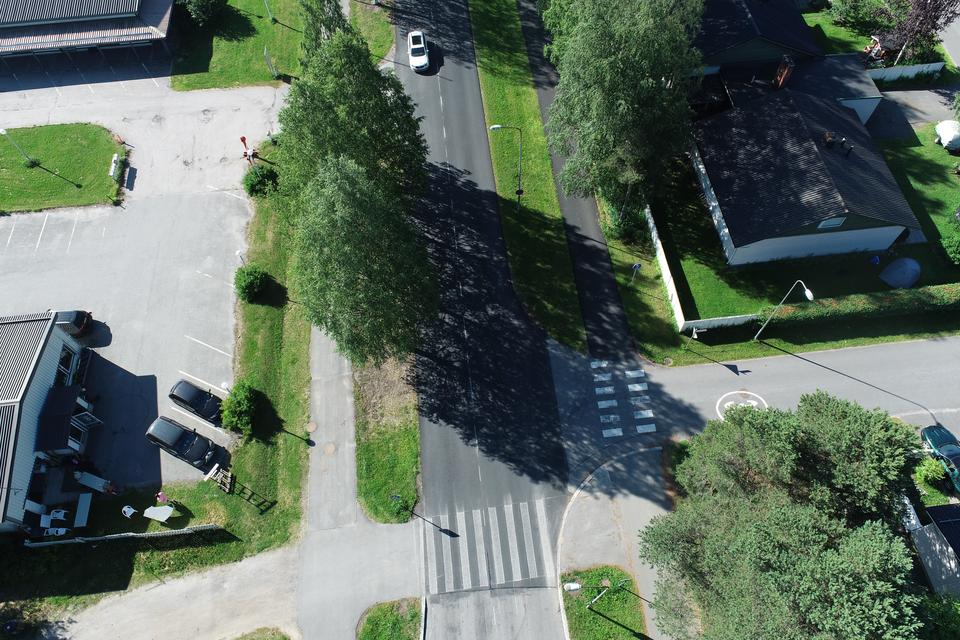intersection: (276, 349, 702, 636)
